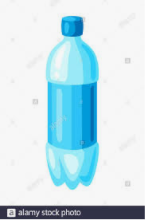Bottle: (47, 17, 99, 189)
